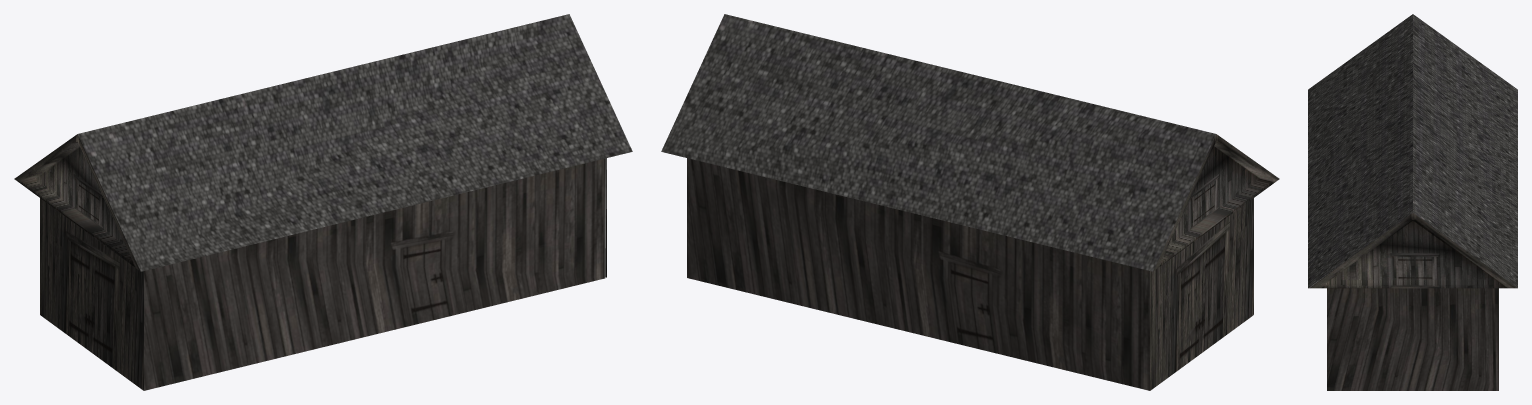
Rendered from House1.2.fbx.
3 views of the same model, side by side, from view 1: azimuth 30°, elevation 25°; view 2: azimuth 150°, elevation 25°; view 3: azimuth 270°, elevation 25° (orthographic). The views are drawn at different scales.
Visible parts, largest first — view 1: Cube; view 2: Cube; view 3: Cube.
Part boxes in pixels (bbox=[...]): Cube: bbox=[14, 14, 632, 390]; Cube: bbox=[661, 14, 1279, 390]; Cube: bbox=[1308, 14, 1517, 390].
Bounding box in the file's own units: 1018 × 440 × 455.
